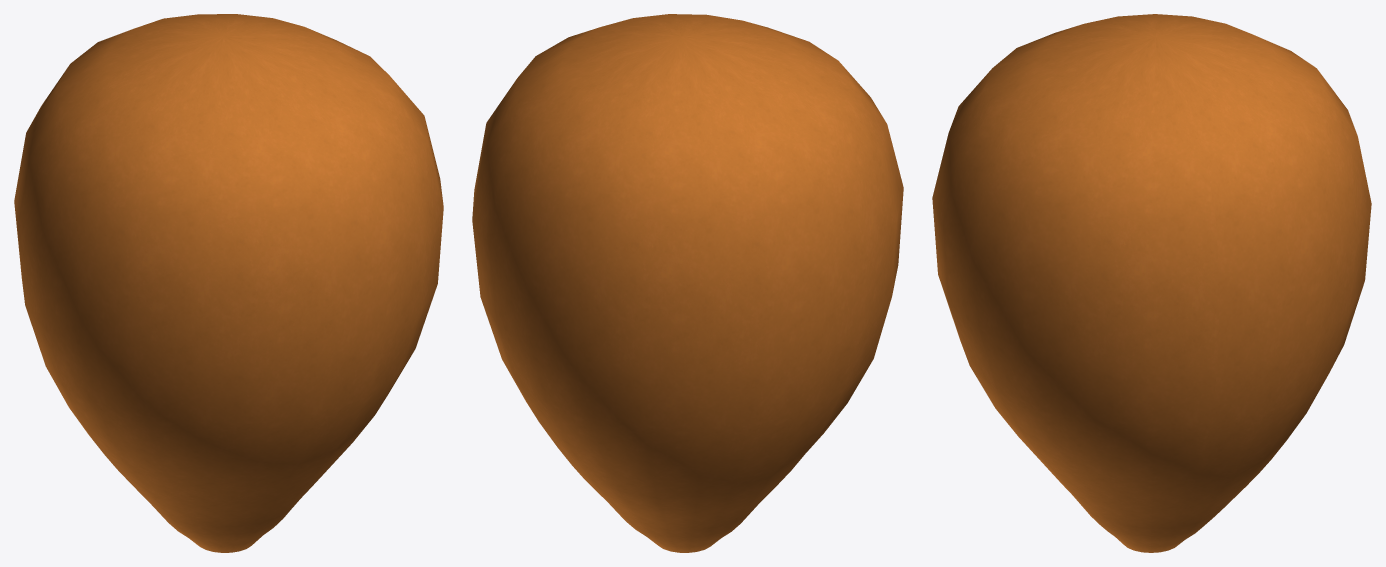
The model's file is tesdt.gltf.
3 views of the same model, side by side, from view 1: azimuth 30°, elevation 25°; view 2: azimuth 150°, elevation 25°; view 3: azimuth 270°, elevation 25° (orthographic).
Visible parts, largest first — view 1: pSphere37:PIV; view 2: pSphere37:PIV; view 3: pSphere37:PIV.
Part boxes in pixels (<box>): pSphere37:PIV: <box>14,14,443,552</box>; pSphere37:PIV: <box>472,14,903,552</box>; pSphere37:PIV: <box>932,14,1371,552</box>.
Size of the model in its own units: 3.2 by 4.13 by 3.27.
1 material, 1 textured.
